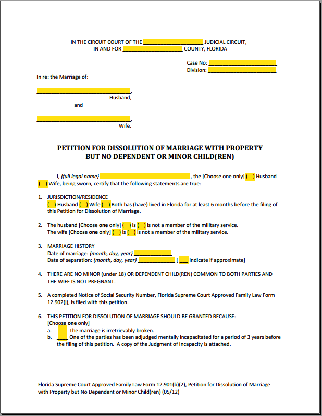checkbox: (245, 172, 255, 181), (78, 200, 89, 208), (135, 221, 146, 229), (125, 228, 136, 236), (37, 180, 47, 188), (46, 200, 56, 208), (100, 200, 110, 208), (121, 221, 131, 229), (111, 228, 121, 236)
textline: (35, 86, 132, 94), (35, 115, 132, 122), (98, 173, 192, 180), (207, 59, 277, 66), (207, 66, 276, 73), (121, 45, 183, 52), (142, 39, 204, 45), (133, 249, 172, 256), (136, 256, 175, 263), (55, 334, 68, 341), (178, 256, 188, 264)
